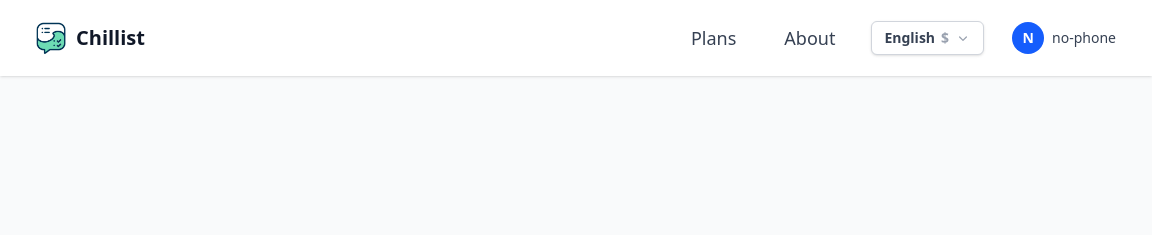
it: Header › authenticated - user dropdown › hides phone when not set in metadata
The width and height of the screenshot is (1152, 235).
Click the button with aria-label "User menu": (1064, 38) [1008,18,1120,58]
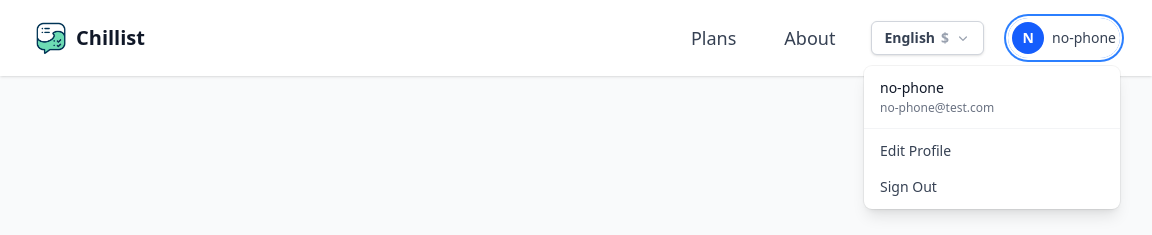
Expected: the text with test id "menu-email" reads "no-phone@test.com", [880,99,994,116]
